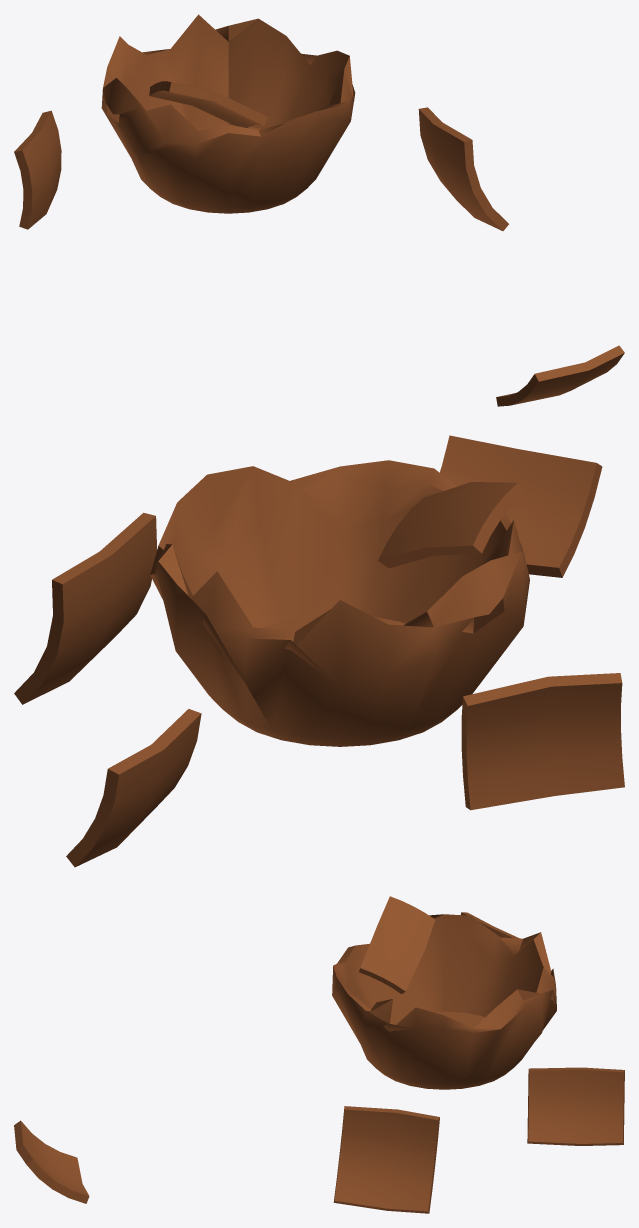
Rendered from krug_kaputt.glb.
3 views of the same model, one above another, from view 1: azimuth 30°, elevation 25°; view 2: azimuth 150°, elevation 25°; view 3: azimuth 270°, elevation 25° (orthographic). The views are drawn at different scales.
Parts seen in each view (by area): view 1: krug_kaputt; view 2: krug_kaputt; view 3: krug_kaputt.
Part boxes in pixels (x1=…): krug_kaputt: x1=14, y1=14, x2=624, y2=406; krug_kaputt: x1=14, y1=435, x2=624, y2=867; krug_kaputt: x1=14, y1=896, x2=624, y2=1213.
Size of the model in its own units: 0.4096 by 0.2145 by 0.5702.
